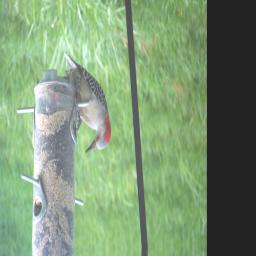Woodpecker: (63, 48, 111, 155)
